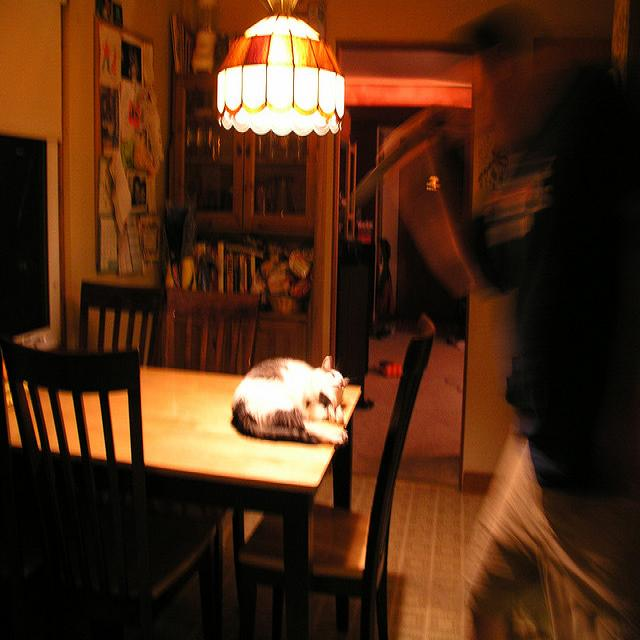chair: (2, 337, 234, 639), (237, 313, 436, 640), (165, 288, 262, 375), (79, 282, 164, 363)
dining table: (145, 360, 338, 630)
